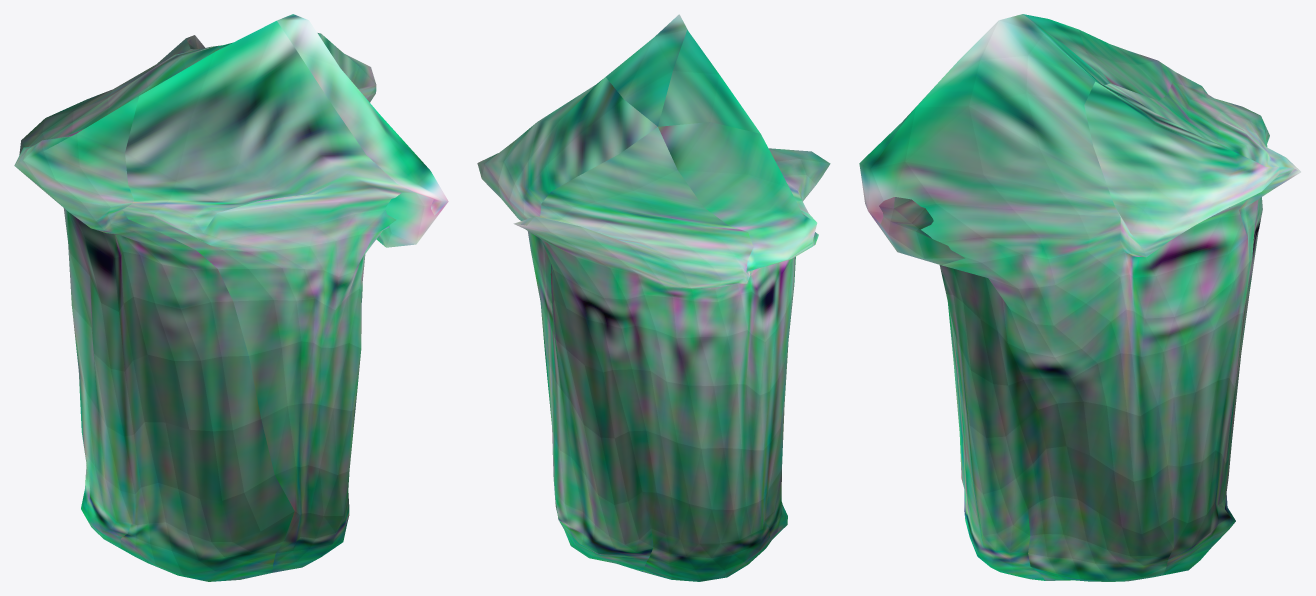
The picture shows the model from 3 angles, left to right: view 1: azimuth 30°, elevation 25°; view 2: azimuth 150°, elevation 25°; view 3: azimuth 270°, elevation 25°; orthographic projection. The views are drawn at different scales.
Visible parts, largest first — view 1: pMesh1; view 2: pMesh1; view 3: pMesh1.
Boxes of the visible parts, <box> form: pMesh1: <box>14,14,448,581</box>; pMesh1: <box>477,14,830,581</box>; pMesh1: <box>859,14,1300,581</box>.
Size of the model in its own units: 1.96 by 2.87 by 2.08.
1 material, 1 textured.
